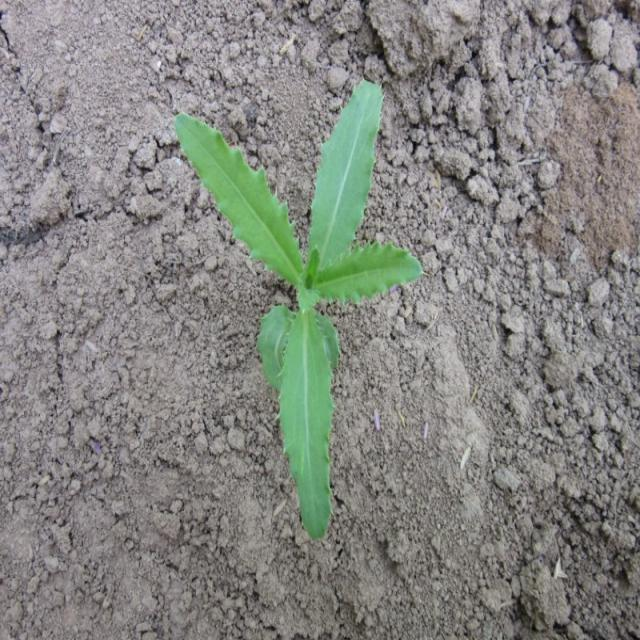cs: (174, 77, 428, 546)
